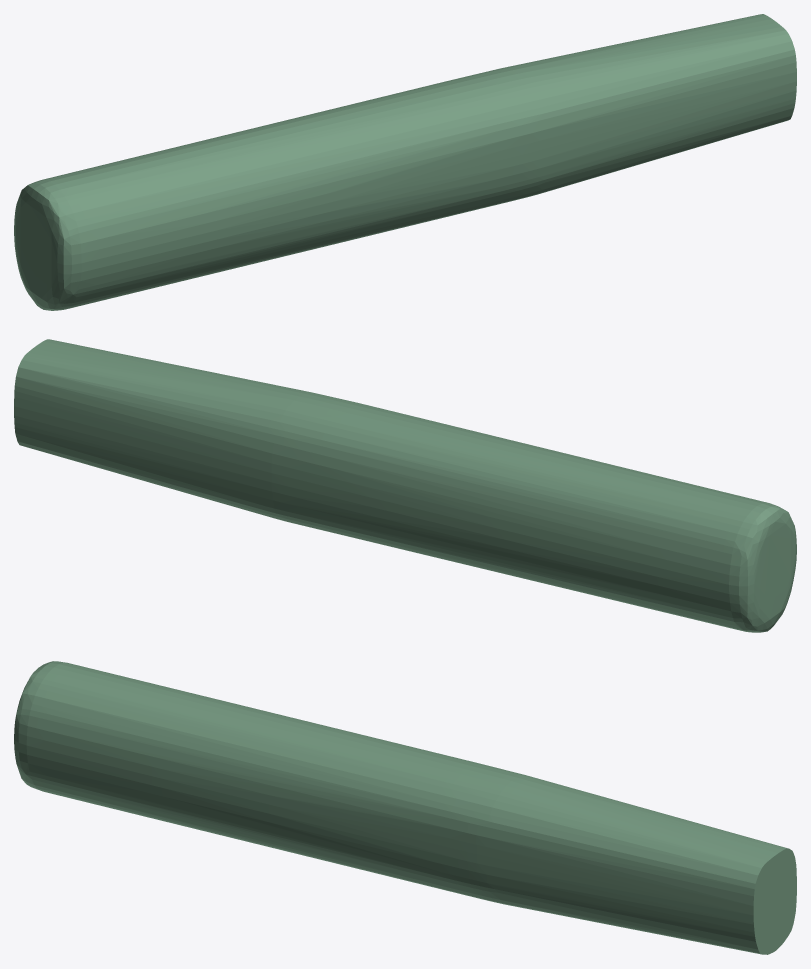
3 views of the same model, one above another, from view 1: azimuth 30°, elevation 25°; view 2: azimuth 150°, elevation 25°; view 3: azimuth 330°, elevation 25° (orthographic).
Bounding box in the file's own units: 0.1603 × 0.0252 × 0.0209.
